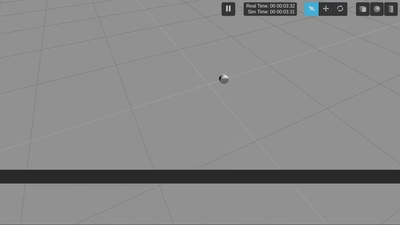mira_robot: (219, 74, 229, 83)
